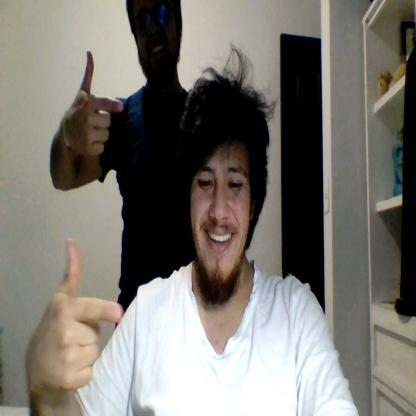G: (38, 239, 124, 391), (68, 50, 122, 154)
